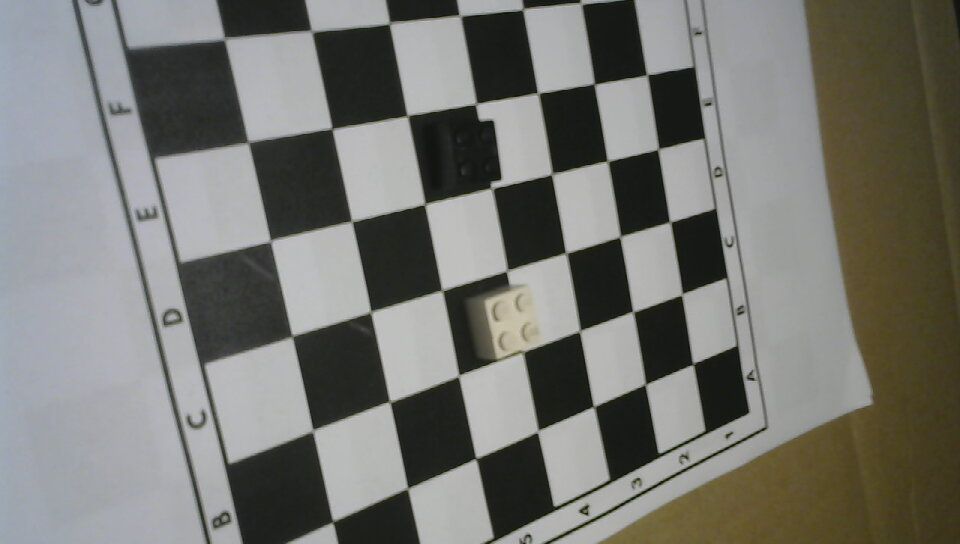bp: (421, 113, 505, 195)
